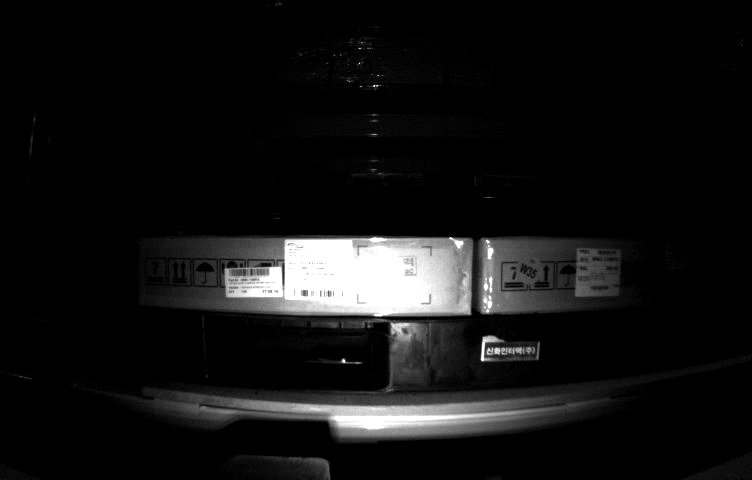True Barcode: (573, 244, 620, 298)
